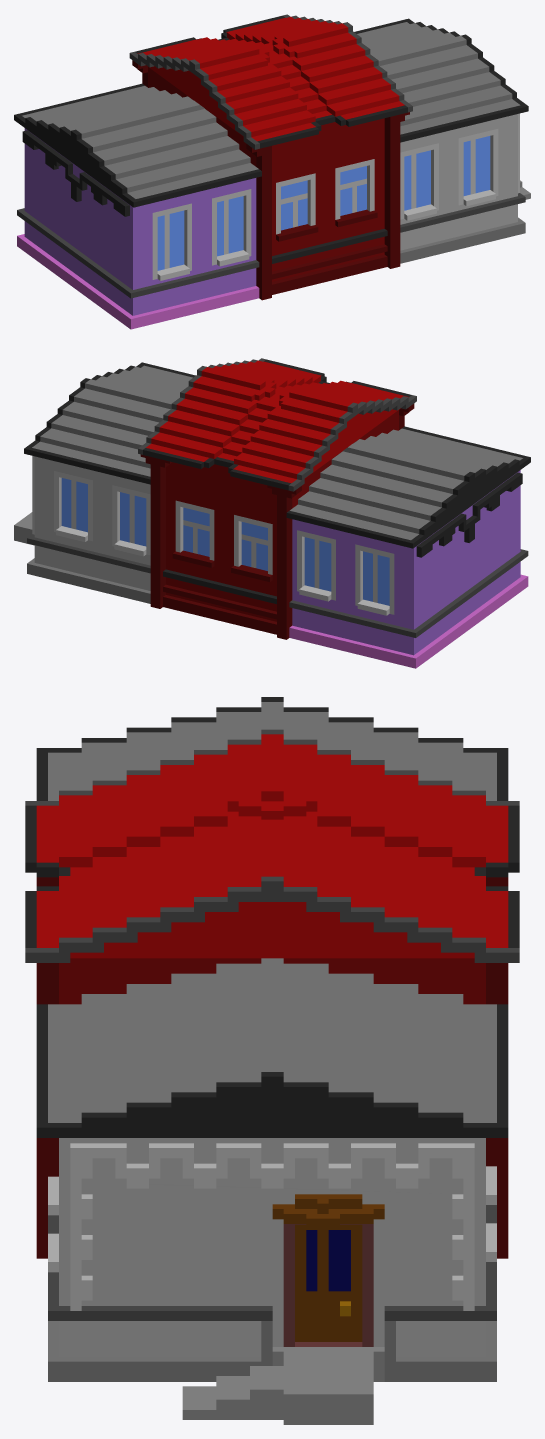
File: VoxelHouse_03.obj
The picture shows the model from 3 angles, top to bottom: view 1: azimuth 30°, elevation 25°; view 2: azimuth 150°, elevation 25°; view 3: azimuth 270°, elevation 25°; orthographic projection. The views are drawn at different scales.
Visible parts, largest first — view 1: CGtrader_House03; view 2: CGtrader_House03; view 3: CGtrader_House03.
Part boxes in pixels (<box>): CGtrader_House03: <box>14,14,530,329</box>; CGtrader_House03: <box>14,358,530,668</box>; CGtrader_House03: <box>25,697,519,1424</box>.
Size of the model in its own units: 17.8 by 7.6 by 8.8.
Materials: 1 (1 with a texture image).
